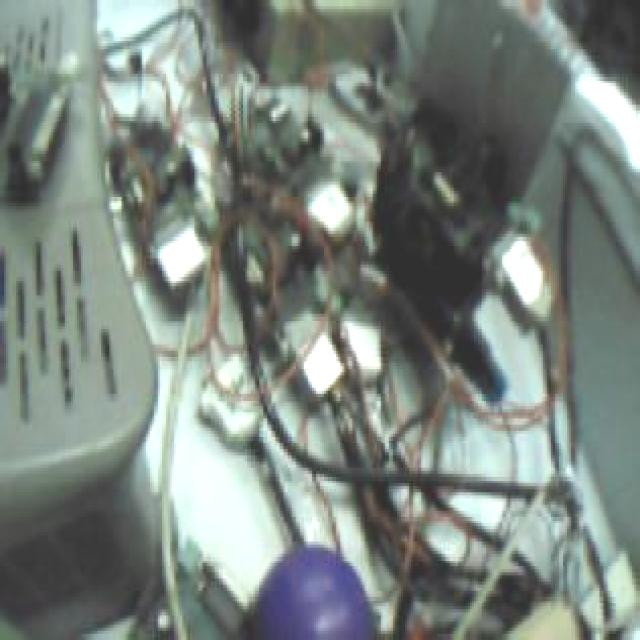BallPurple: (243, 547, 378, 640)
